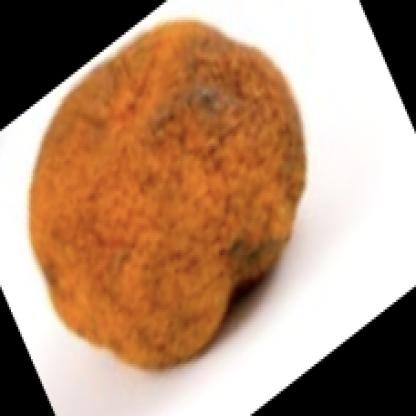rotten: (32, 22, 306, 371)
